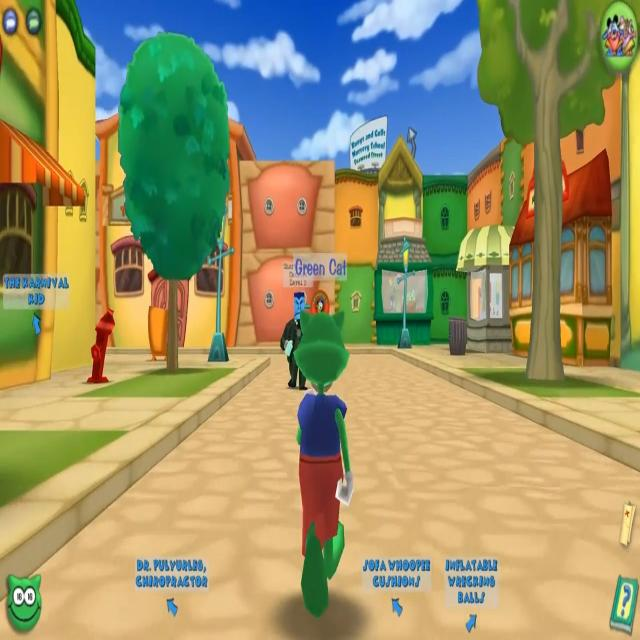shortchange: (279, 258, 313, 385)
